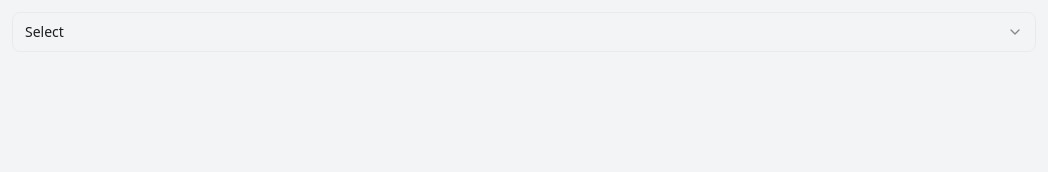
Select Components › SelectLabel › renders label text when open
What coordinates should you click on to do the following:
click the dropdown with test id "trigger"
I would click on:
 (44, 32)
Its box is [12,12,1036,52].
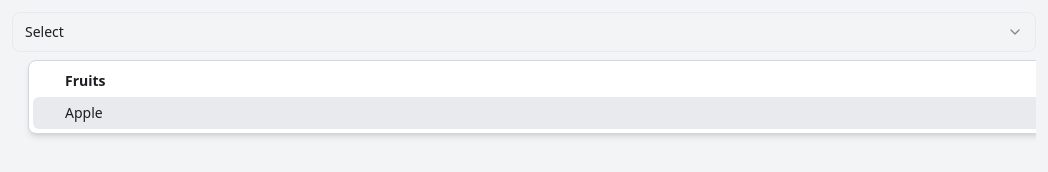
Expected: the text "Fruits" is shown, [65,71,106,90]
